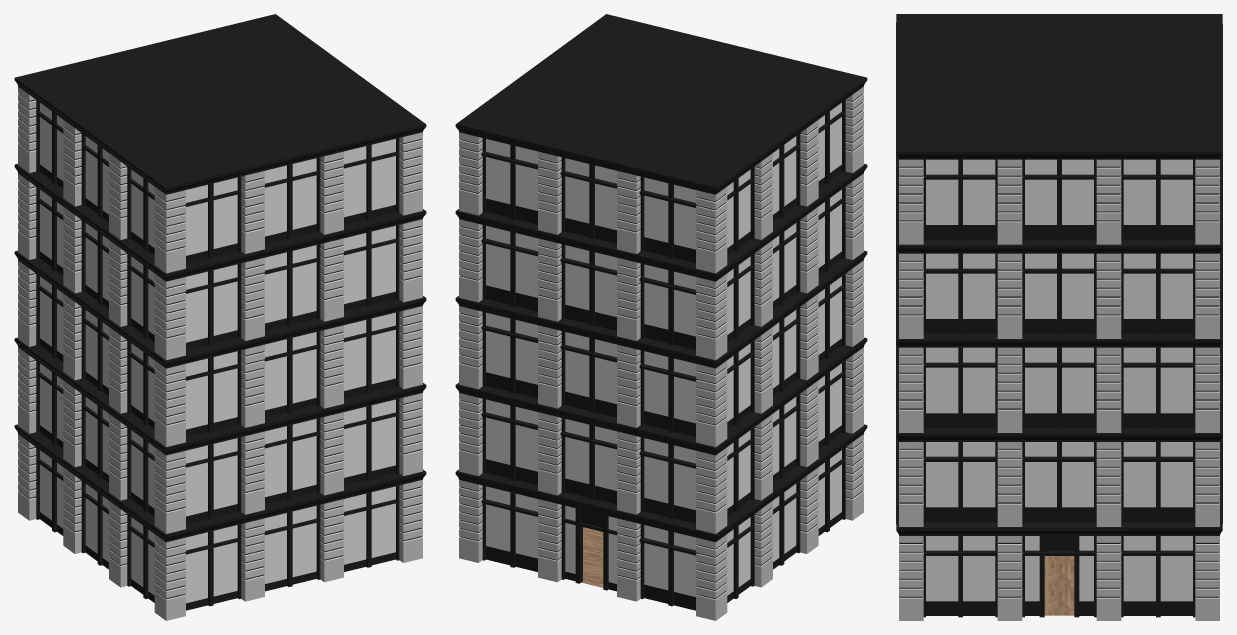
The model's file is Building.fbx.
The picture shows the model from 3 angles, left to right: view 1: azimuth 30°, elevation 25°; view 2: azimuth 150°, elevation 25°; view 3: azimuth 270°, elevation 25°; orthographic projection. The views are drawn at different scales.
Visible parts, largest first — view 1: OverhangCorner.004, OverhangCorner, OverhangCorner.002, OverhangCorner.001, OverhangCorner.003, Window.017, Window.014, Window.042, Window.013, Window.029, Window.041, Window.030 (+58 smaller); view 2: OverhangCorner.004, OverhangCorner, OverhangCorner.002, OverhangCorner.001, OverhangCorner.003, Window.015, Window.020, Window.027, Window.044, Window.011, Window.032, Window.039 (+59 smaller); view 3: OverhangCorner.004, Window.033, Window.045, Window.057, Window.022, Window.023, Window.034, Window.035, Window.046, Window.047, Window.021, Window.002 (+29 smaller).
Part boxes in pixels (box(x1,y1,x2,y2)): OverhangCorner.004: box(14, 14, 426, 194); OverhangCorner: box(14, 424, 426, 542); OverhangCorner.002: box(14, 250, 426, 368); OverhangCorner.001: box(14, 337, 426, 455); OverhangCorner.003: box(14, 164, 426, 281); Window.017: box(185, 524, 241, 610); Window.014: box(264, 418, 320, 504); Window.042: box(264, 244, 320, 330); Window.013: box(185, 437, 241, 523); Window.029: box(185, 350, 241, 436); Window.041: box(185, 263, 241, 349); Window.030: box(264, 331, 320, 417); OverhangCorner.004: box(455, 14, 867, 194); OverhangCorner: box(455, 424, 867, 542); OverhangCorner.002: box(455, 250, 867, 368); OverhangCorner.001: box(455, 337, 867, 455); OverhangCorner.003: box(455, 164, 867, 281); Window.015: box(639, 524, 696, 610); Window.020: box(560, 418, 617, 504); Window.027: box(639, 350, 696, 436); Window.044: box(560, 244, 617, 330); Window.011: box(639, 437, 696, 523); Window.032: box(560, 331, 617, 417); Window.039: box(639, 263, 696, 349); OverhangCorner.004: box(896, 14, 1222, 159); Window.033: box(1022, 347, 1096, 429); Window.045: box(1022, 253, 1096, 335); Window.057: box(1022, 159, 1096, 241); Window.022: box(1121, 347, 1195, 429); Window.023: box(923, 347, 997, 429); Window.034: box(1121, 253, 1195, 335); Window.035: box(923, 253, 997, 335); Window.046: box(1121, 159, 1195, 241); Window.047: box(923, 159, 997, 241); Window.021: box(1022, 442, 1096, 523); Window.002: box(1121, 536, 1195, 617).
Bounding box in the file's own units: 1323 × 2100 × 1323.
